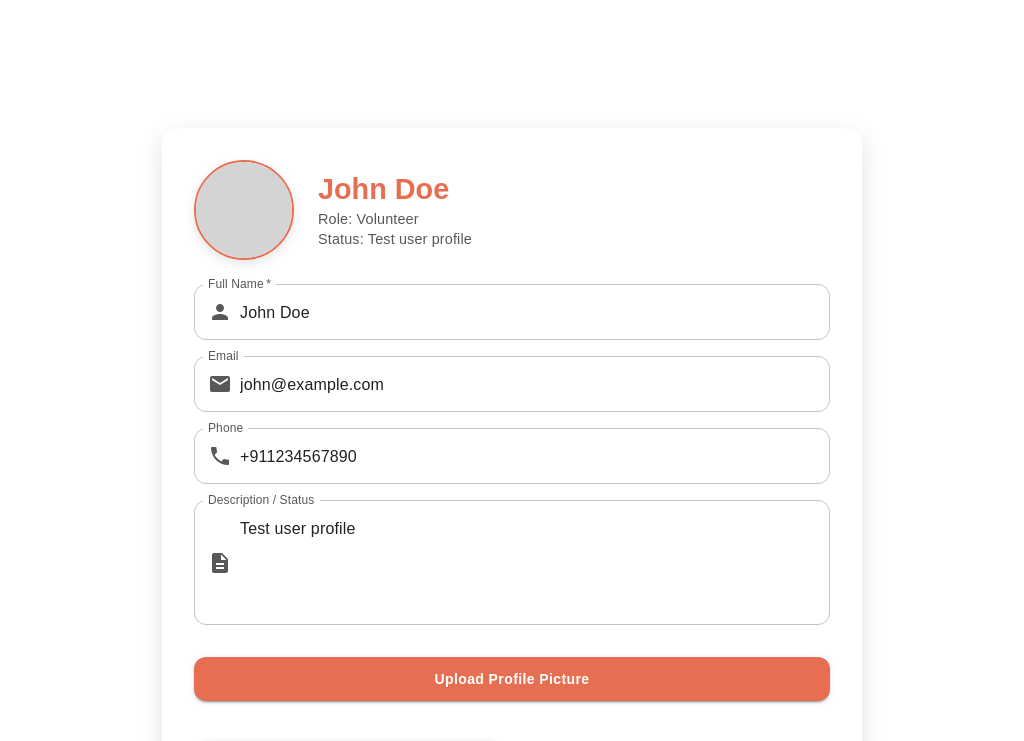
Test: 👤 ProfileSection Component › updates user profile successfully
Check: the heading "John Doe" is shown, box [318,170,472,209]
Replace the text in the field labelled "Full Name" with "John Doe Updated" at (535, 312), box [240,284,830,340]
(page scrolled)
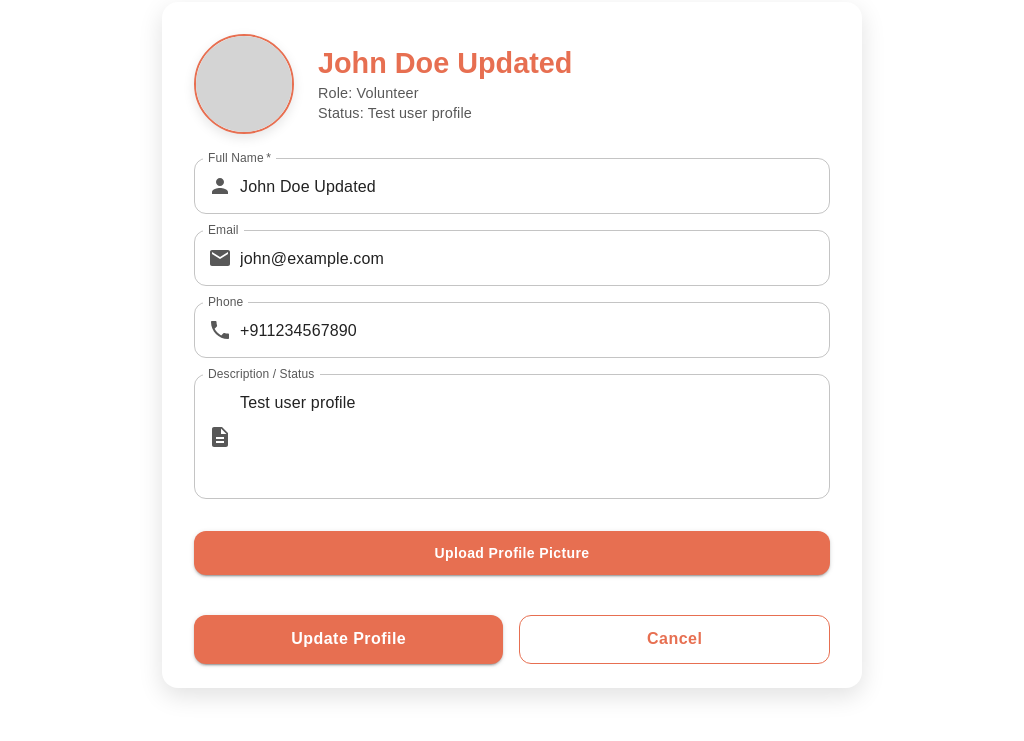
Click the button "Update Profile" at (349, 639), box [194,615,504,664]
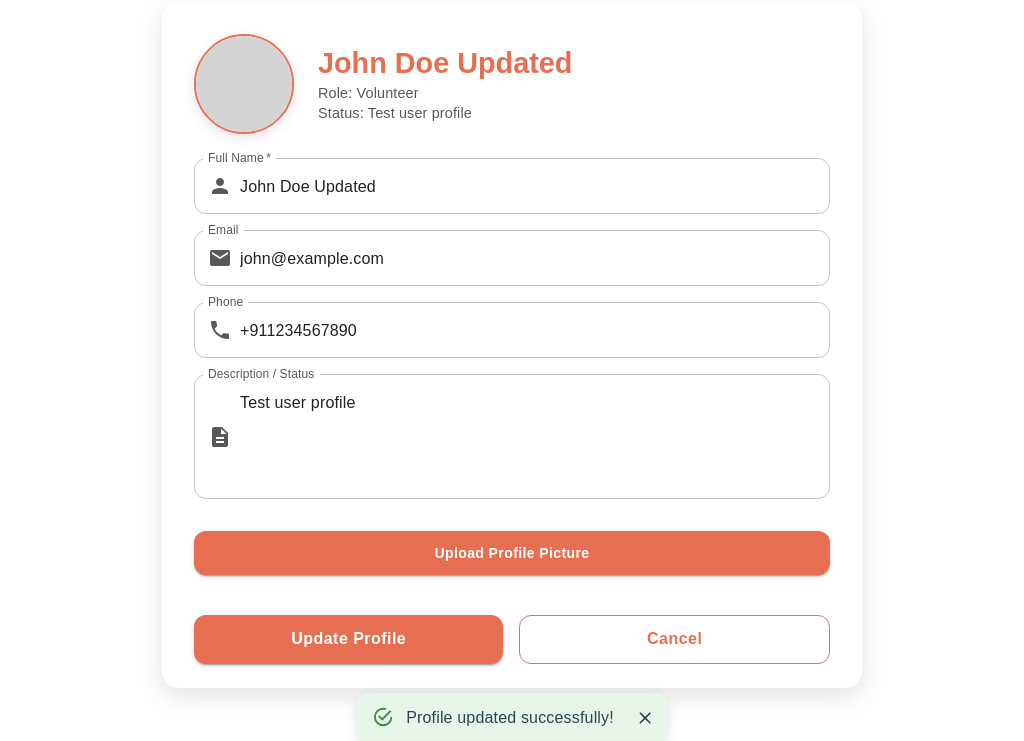
Check: the text "Profile updated successfully!" is shown, box [406,709,614,726]
